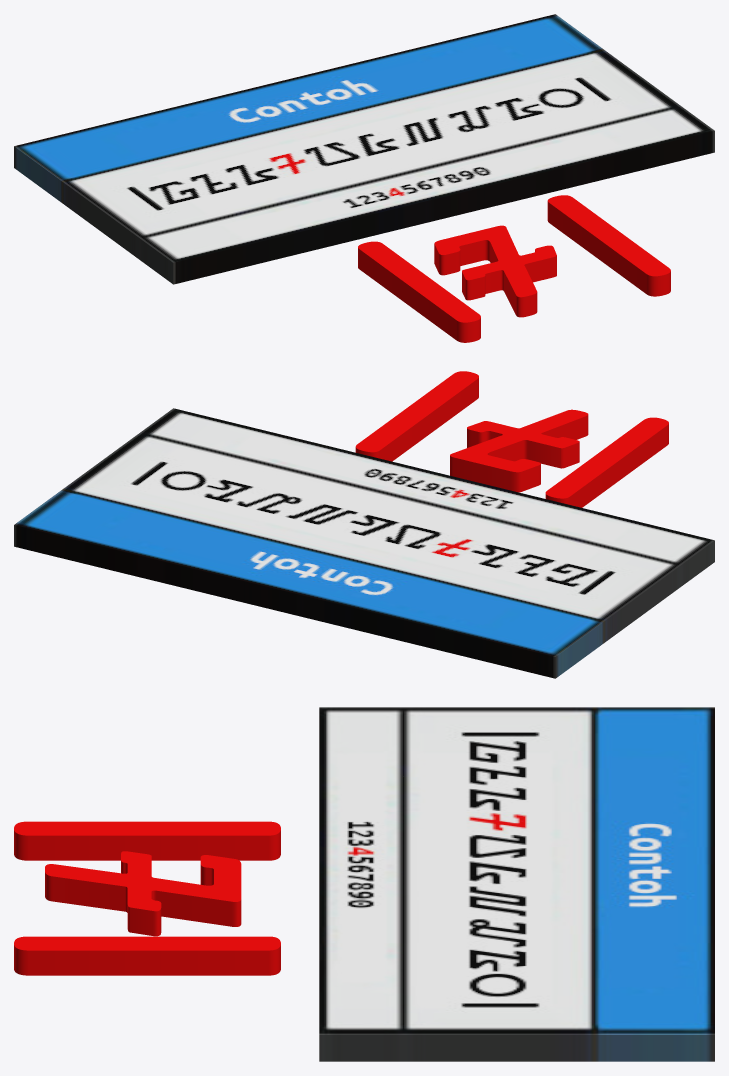
The picture shows the model from 3 angles, top to bottom: view 1: azimuth 30°, elevation 25°; view 2: azimuth 150°, elevation 25°; view 3: azimuth 270°, elevation 25°; orthographic projection. The views are drawn at different scales.
Visible parts, largest first — view 1: contoh-4-Angka, Text; view 2: contoh-4-Angka, Text; view 3: contoh-4-Angka, Text.
Boxes of the visible parts, <box> form: contoh-4-Angka: <box>14,14,714,284</box>; Text: <box>358,195,670,342</box>; contoh-4-Angka: <box>14,408,714,678</box>; Text: <box>355,371,668,507</box>; contoh-4-Angka: <box>319,707,714,1061</box>; Text: <box>14,821,280,975</box>.
Size of the model in its own units: 1.96 by 0.11 by 1.77.
2 materials, 1 textured.
